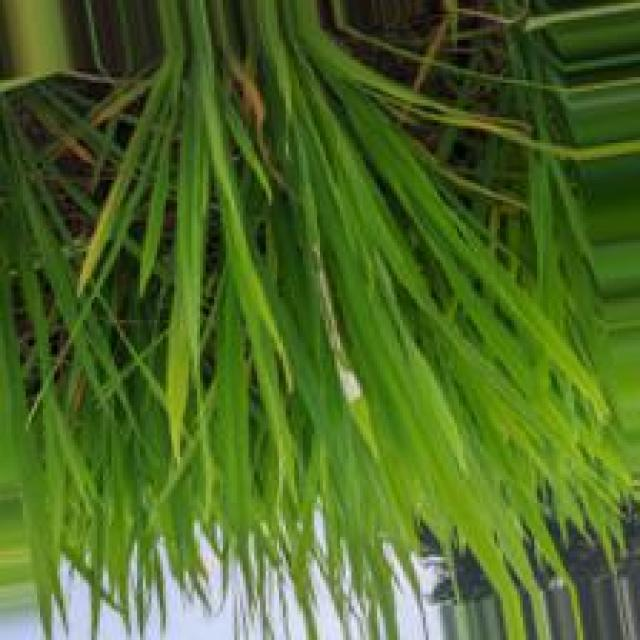HealthyLeaf: (367, 238, 564, 483)
